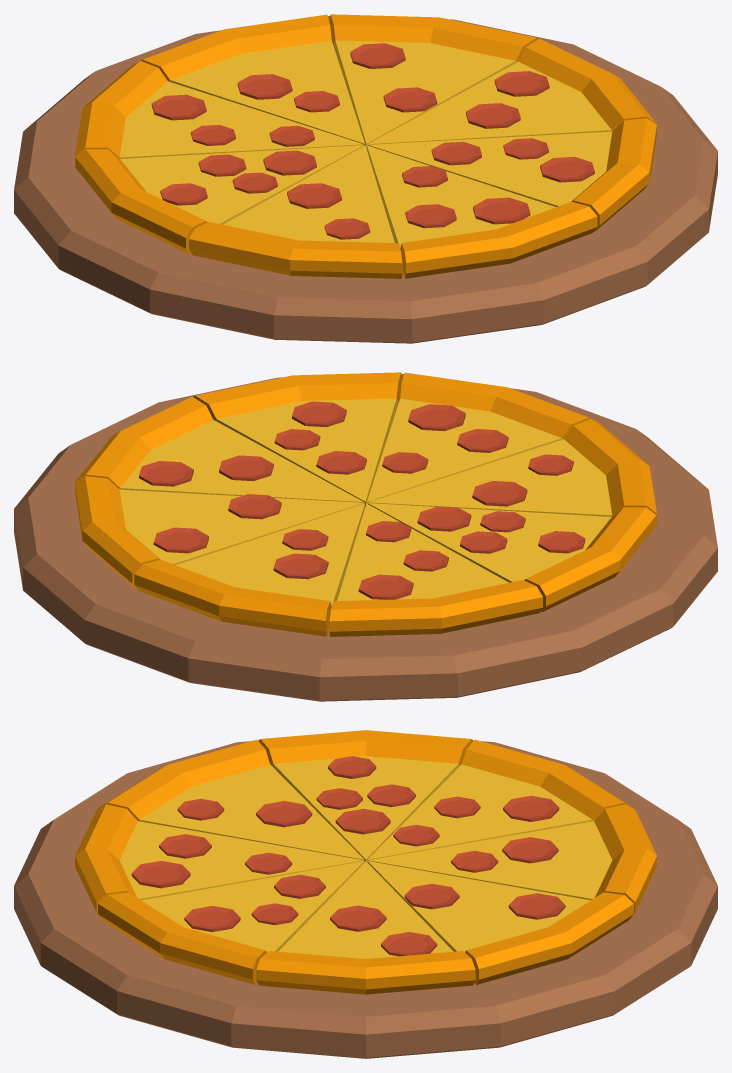
Rendered from Pizza.fbx.
3 views of the same model, one above another, from view 1: azimuth 30°, elevation 25°; view 2: azimuth 150°, elevation 25°; view 3: azimuth 270°, elevation 25° (orthographic).
Visible parts, largest first — view 1: Pizza, Slice4, Slice3, Slice7, Slice2, Slice, Slice5, Slice6, Slice1; view 2: Pizza, Slice, Slice1, Slice5, Slice2, Slice4, Slice7, Slice6, Slice3; view 3: Pizza, Slice6, Slice5, Slice7, Slice2, Slice1, Slice3, Slice, Slice4.
Boxes of the visible parts, x1=… form: Pizza: x1=14, y1=16, x2=717, y2=343; Slice4: x1=367, y1=145, x2=597, y2=278; Slice3: x1=189, y1=145, x2=402, y2=278; Slice7: x1=329, y1=14, x2=538, y2=149; Slice2: x1=75, y1=145, x2=364, y2=254; Slice: x1=140, y1=14, x2=364, y2=145; Slice5: x1=367, y1=118, x2=656, y2=231; Slice6: x1=367, y1=38, x2=656, y2=144; Slice1: x1=75, y1=61, x2=364, y2=165; Pizza: x1=14, y1=374, x2=717, y2=701; Slice: x1=134, y1=503, x2=364, y2=636; Slice1: x1=329, y1=503, x2=542, y2=636; Slice5: x1=193, y1=372, x2=402, y2=507; Slice2: x1=367, y1=503, x2=656, y2=612; Slice4: x1=367, y1=372, x2=591, y2=503; Slice7: x1=75, y1=476, x2=364, y2=589; Slice6: x1=75, y1=396, x2=364, y2=502; Slice3: x1=367, y1=419, x2=656, y2=523; Pizza: x1=14, y1=741, x2=717, y2=1058; Slice6: x1=256, y1=861, x2=475, y2=994; Slice5: x1=98, y1=861, x2=364, y2=984; Slice7: x1=367, y1=861, x2=633, y2=984; Slice2: x1=258, y1=730, x2=473, y2=861; Slice1: x1=367, y1=739, x2=633, y2=860; Slice3: x1=98, y1=739, x2=364, y2=860; Slice: x1=368, y1=804, x2=656, y2=918; Slice4: x1=75, y1=804, x2=363, y2=918.
Size of the model in its own units: 25.61 by 2.51 by 25.61.
